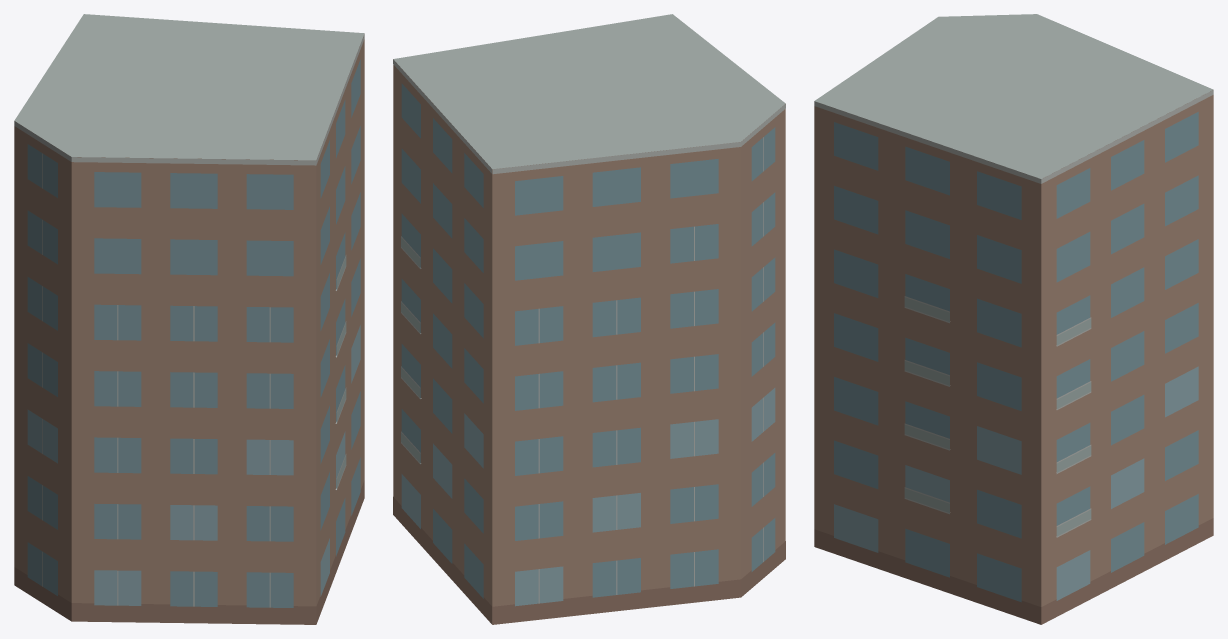
The model's file is survey-upis-32581529.glb.
3 views of the same model, side by side, from view 1: azimuth 30°, elevation 25°; view 2: azimuth 150°, elevation 25°; view 3: azimuth 270°, elevation 25° (orthographic). The views are drawn at different scales.
Visible parts, largest first — view 1: survey-upis-32581529.tmp; view 2: survey-upis-32581529.tmp; view 3: survey-upis-32581529.tmp.
Part boxes in pixels (x1=…): survey-upis-32581529.tmp: x1=14, y1=14, x2=364, y2=624; survey-upis-32581529.tmp: x1=393, y1=14, x2=785, y2=624; survey-upis-32581529.tmp: x1=814, y1=14, x2=1213, y2=624.
Bounding box in the file's own units: 17.56 × 22.1 × 17.95.
